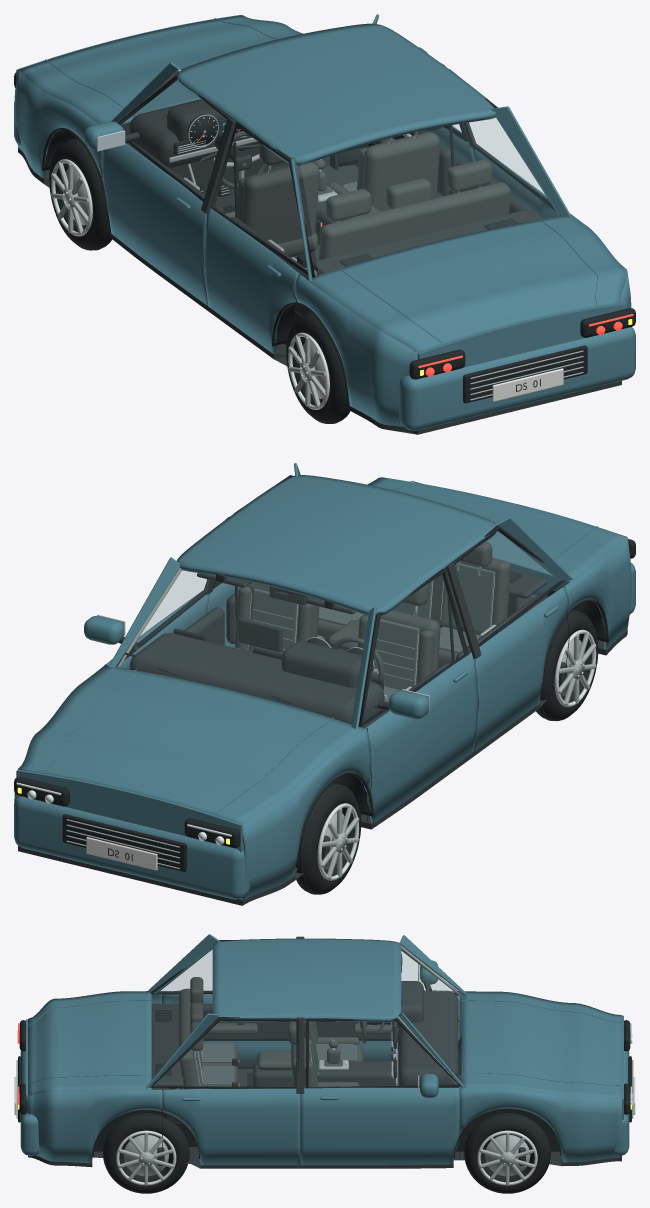
File: DS_Sedan_A.fbx
3 views of the same model, one above another, from view 1: azimuth 30°, elevation 25°; view 2: azimuth 150°, elevation 25°; view 3: azimuth 270°, elevation 25° (orthographic). The views are drawn at different scales.
Parts seen in each view (by area): view 1: Roof, Trunk, Glass_Rear, Hood, DoorFront_L, BumperFacia_-1, DoorRear_L, RearQuarter_L, Glass_Rear_L, Glass_Front_L, RearBench_Backrest, Backrest (+33 smaller); view 2: Hood, Roof, Glass_Windshield, DoorFront_L, Dashboard, BumperFacia_1, DoorRear_L, Trunk, Glass_Front_L, FrontWing_L, Glass_Rear_L, Shell_FrontUpperFacia (+33 smaller); view 3: Roof, Hood, DoorFront_R, Trunk, DoorRear_R, Glass_Front_R, Glass_Rear_R, FrontWing_R, RearQuarter_R, Glass_Windshield, Glass_Rear, Dashboard (+32 smaller).
Part boxes in pixels (x1,y1,x2,y2): Roof: (176,23,495,165); Trunk: (306,214,627,352); Glass_Rear: (301,116,560,275); Hood: (18,15,302,125); DoorFront_L: (101,143,208,306); BumperFacia_-1: (399,327,635,430); DoorRear_L: (204,208,300,354); RearQuarter_L: (294,274,417,426); Glass_Rear_L: (214,127,306,270); Glass_Front_L: (120,81,225,198); RearBench_Backrest: (317,182,510,275); Backrest: (241,162,319,244); Hood: (18,665,365,824); Roof: (177,475,496,616); Glass_Windshield: (118,568,367,721); DoorFront_L: (365,652,478,823); Dashboard: (129,633,384,723); BumperFacia_1: (14,796,249,899); DoorRear_L: (474,586,568,751); Trunk: (367,477,626,582); Glass_Front_L: (363,575,464,722); FrontWing_L: (240,728,371,900); Glass_Rear_L: (455,532,559,642); Shell_FrontUpperFacia: (16,770,243,852); Roof: (212,938,401,1022); Hood: (461,991,621,1098); DoorFront_R: (300,1087,459,1165); Trunk: (28,991,151,1095); DoorRear_R: (162,1088,300,1165); Glass_Front_R: (309,1021,456,1086); Glass_Rear_R: (155,1021,295,1086); FrontWing_R: (459,1088,621,1162); RearQuarter_R: (28,1089,162,1163); Glass_Windshield: (402,950,462,1078); Glass_Rear: (150,947,212,1080); Dashboard: (398,991,458,1087).
Size of the model in its own units: 225 by 468 by 146.
